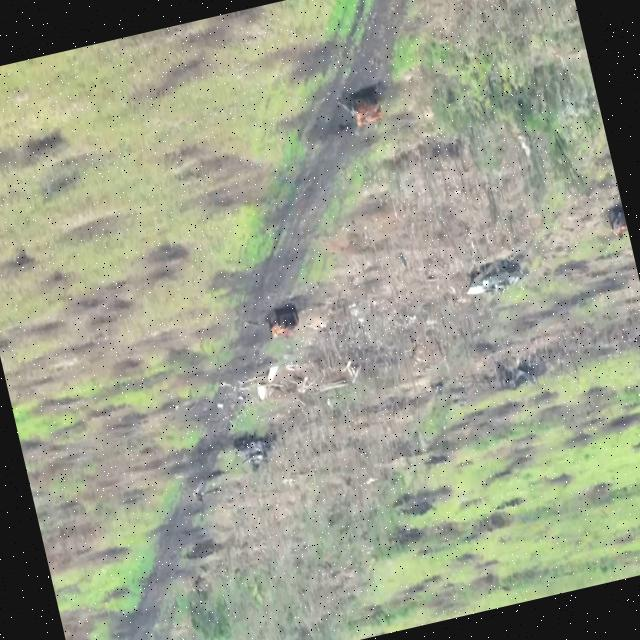AIFV: (461, 256, 526, 302)
Destroyed: (348, 88, 386, 132), (266, 303, 304, 345), (608, 204, 630, 238)
MBT: (233, 430, 280, 474)
